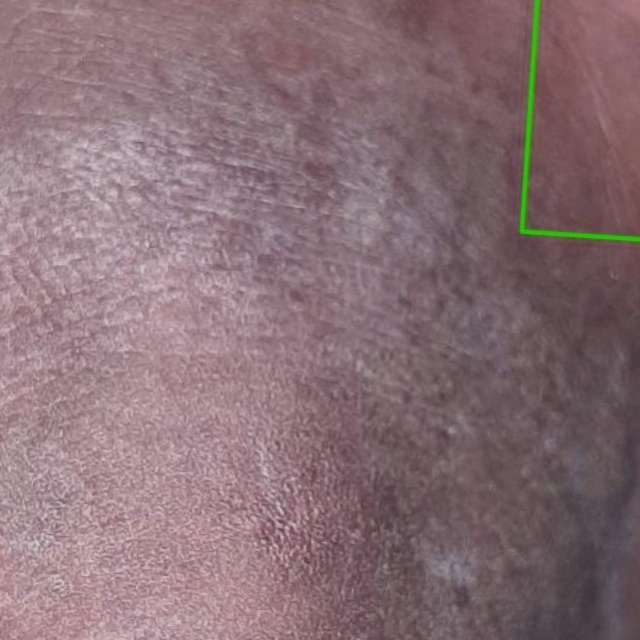Contact Dermatitis: (521, 0, 639, 239)
